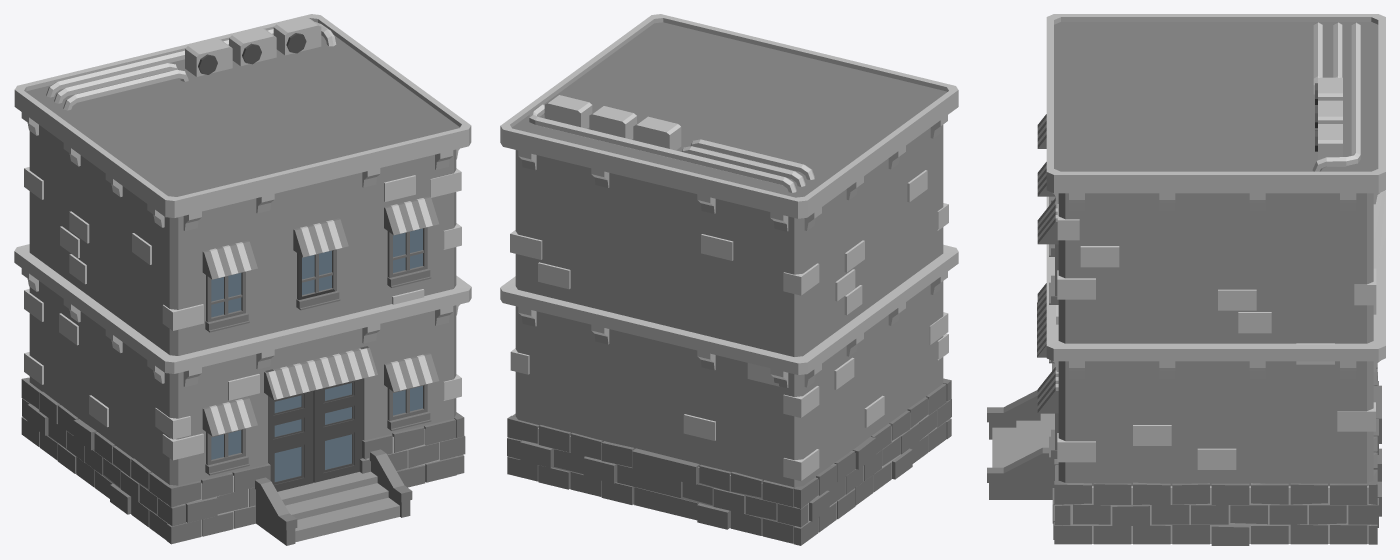
Rendered from qtb_2story_double.fbx.
The picture shows the model from 3 angles, left to right: view 1: azimuth 30°, elevation 25°; view 2: azimuth 150°, elevation 25°; view 3: azimuth 270°, elevation 25°; orthographic projection. The views are drawn at different scales.
Visible parts, largest first — view 1: qtb_2story_double_LOD0; view 2: qtb_2story_double_LOD0; view 3: qtb_2story_double_LOD0.
Boxes of the visible parts, x1,y1,x2,y2 form: qtb_2story_double_LOD0: [14, 14, 471, 545]; qtb_2story_double_LOD0: [500, 14, 958, 545]; qtb_2story_double_LOD0: [987, 14, 1385, 545].
Size of what is drawn, in the model's own units: 6.54 by 7.41 by 6.84.
